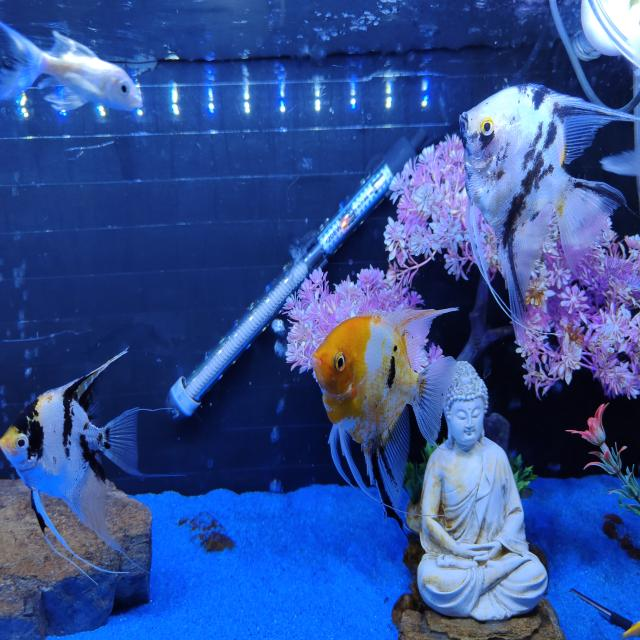Fish: (460, 85, 639, 343), (313, 309, 456, 526), (0, 351, 140, 571), (0, 23, 142, 110), (601, 150, 639, 176), (622, 622, 639, 637)
